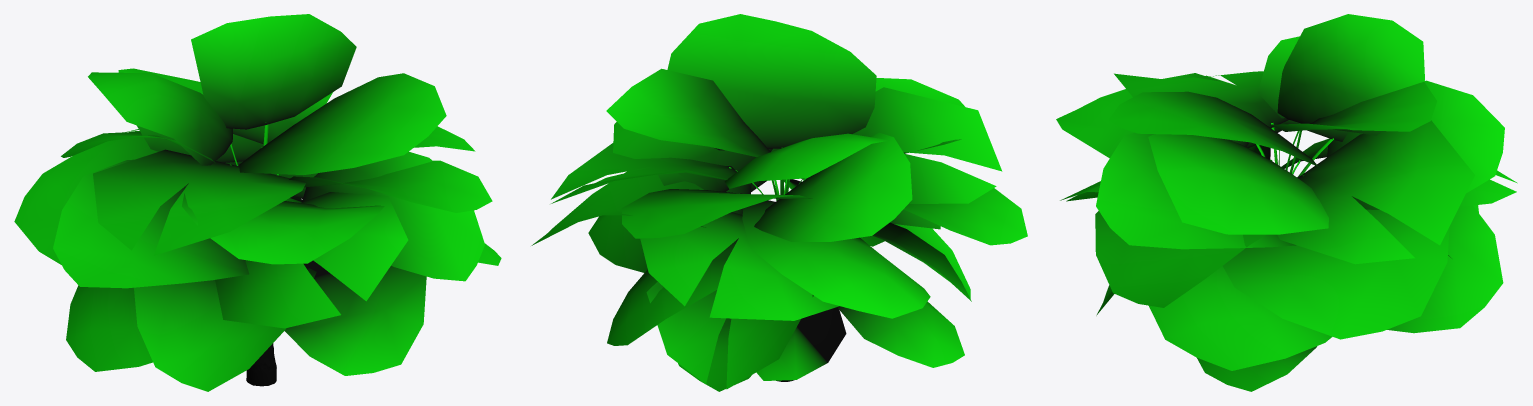
The picture shows the model from 3 angles, left to right: view 1: azimuth 30°, elevation 25°; view 2: azimuth 150°, elevation 25°; view 3: azimuth 270°, elevation 25°; orthographic projection.
Parts seen in each view (by area): view 1: SM_TR_CaliforniaPalm_2m_HD; view 2: SM_TR_CaliforniaPalm_2m_HD; view 3: SM_TR_CaliforniaPalm_2m_HD.
Boxes of the visible parts, bbox=[...] form: SM_TR_CaliforniaPalm_2m_HD: bbox=[14, 14, 501, 391]; SM_TR_CaliforniaPalm_2m_HD: bbox=[531, 14, 1027, 391]; SM_TR_CaliforniaPalm_2m_HD: bbox=[1056, 14, 1517, 391].
Size of the model in its own units: 122 by 128 by 85.57.
